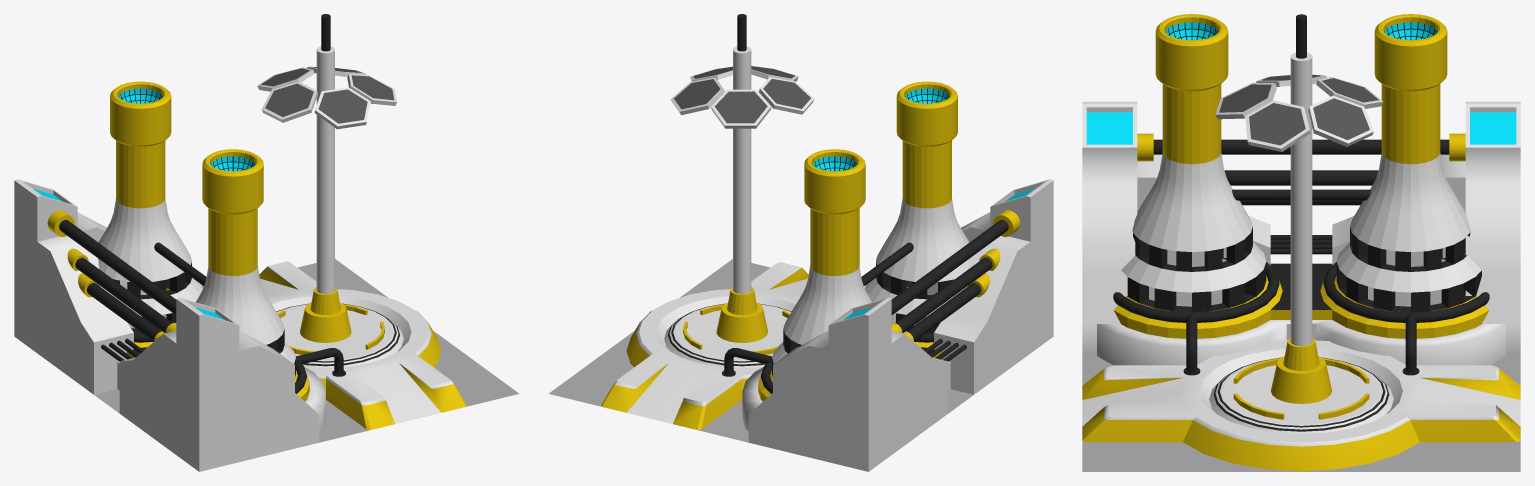
The model's file is SM_Solar_Powerstation.fbx.
The picture shows the model from 3 angles, left to right: view 1: azimuth 30°, elevation 25°; view 2: azimuth 150°, elevation 25°; view 3: azimuth 270°, elevation 25°; orthographic projection. The views are drawn at different scales.
Parts seen in each view (by area): view 1: SM_Solar_Powerstation; view 2: SM_Solar_Powerstation; view 3: SM_Solar_Powerstation.
Part boxes in pixels (box(x1,y1,x2,y2)): SM_Solar_Powerstation: box(14, 14, 519, 471); SM_Solar_Powerstation: box(548, 14, 1053, 471); SM_Solar_Powerstation: box(1082, 14, 1520, 471).
Bounding box in the file's own units: 800 × 800 × 800.
